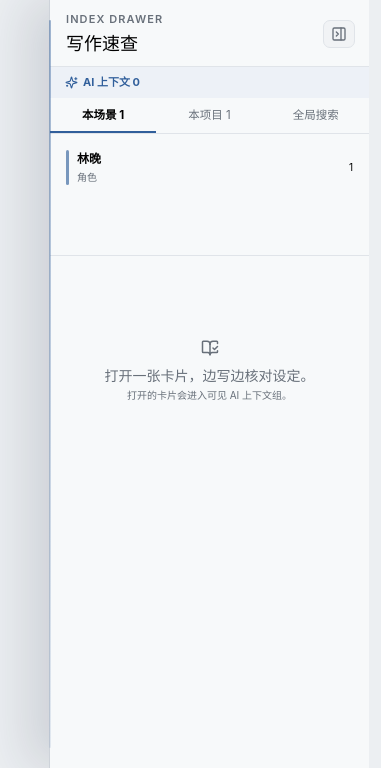
it: WritingQuickReferencePanel › 自动保存失败时保留本地修改和错误状态，下一次失焦可以重试
Step 1. Click the button "林晚 角色 1" → (68, 167), box 58,142 -> 361,193
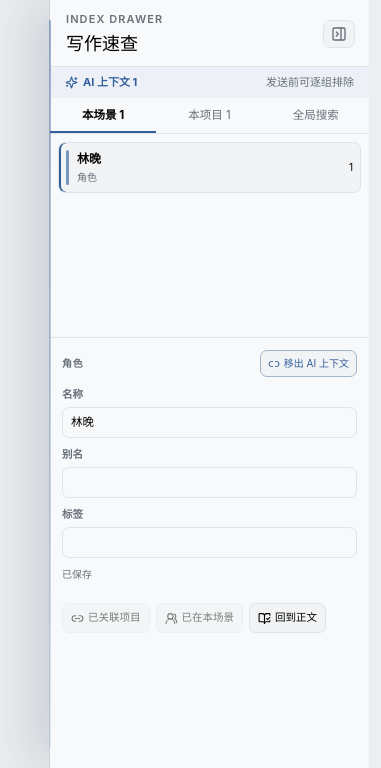
Step 2. Replace the text in the field labelled "名称" with "未丢失的修改" → (210, 423), box 62,407 -> 357,438
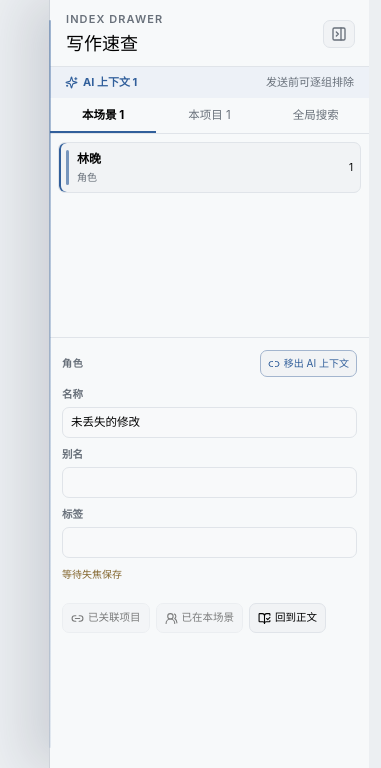
Step 3. Leave the field labelled "名称", box 62,407 -> 357,438
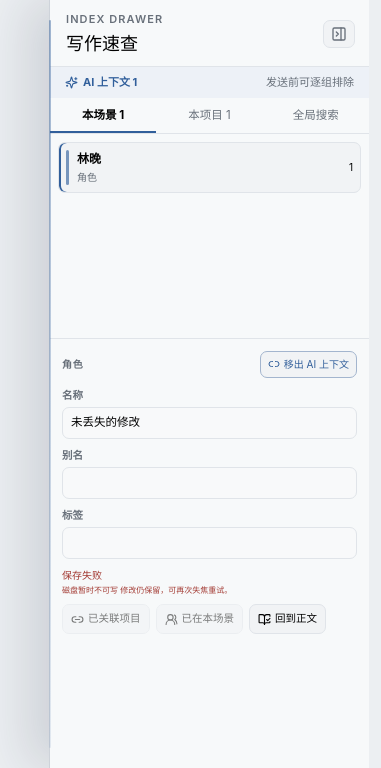
Result: the text "保存失败" is shown at 62,569 -> 102,581
Result: the text "磁盘暂时不可写 修改仍保留，可再次失焦重试。" is shown at 62,585 -> 232,595
Step 4. Leave the field labelled "名称", box 62,407 -> 357,439
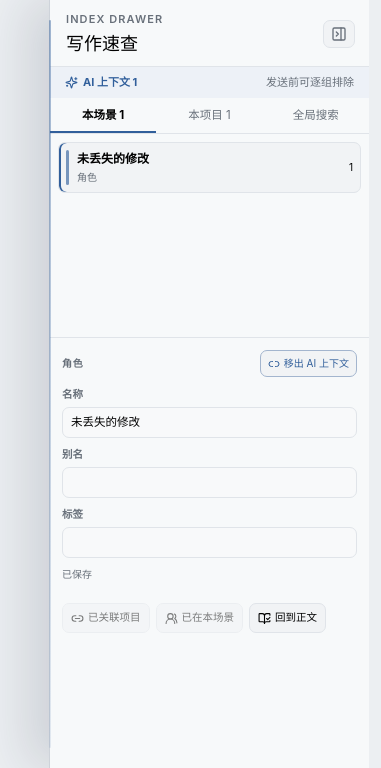
Result: the text "已保存" is shown at 62,568 -> 92,580
